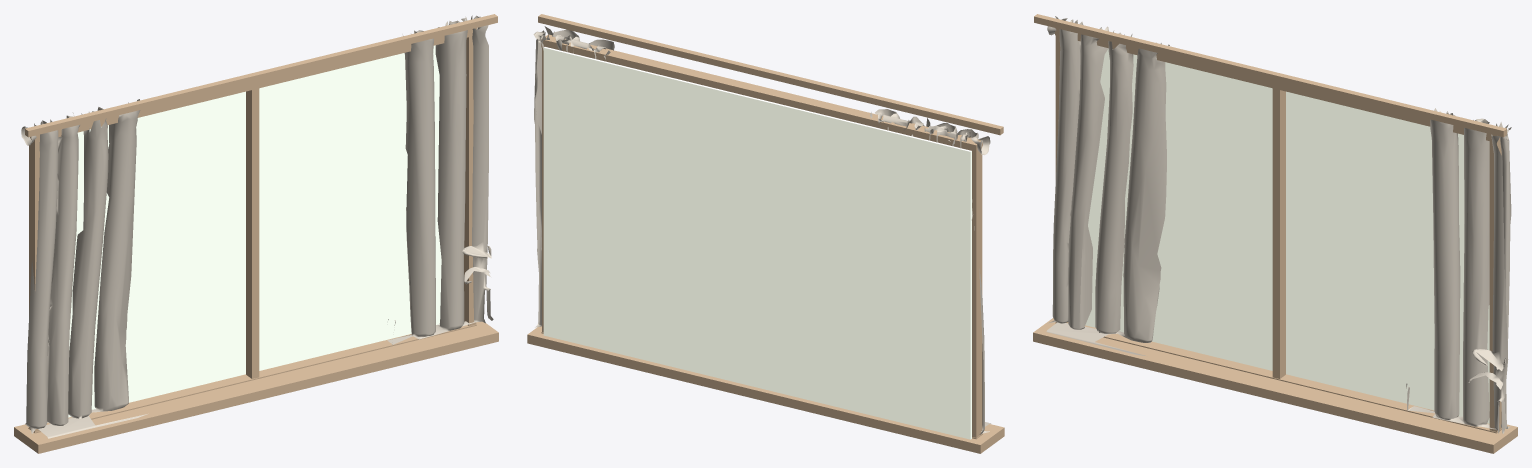
File: suite_window_bedroom.glb
3 views of the same model, side by side, from view 1: azimuth 30°, elevation 25°; view 2: azimuth 150°, elevation 25°; view 3: azimuth 330°, elevation 25° (orthographic).
Size of the model in its own units: 3.55 by 2.31 by 0.32.
